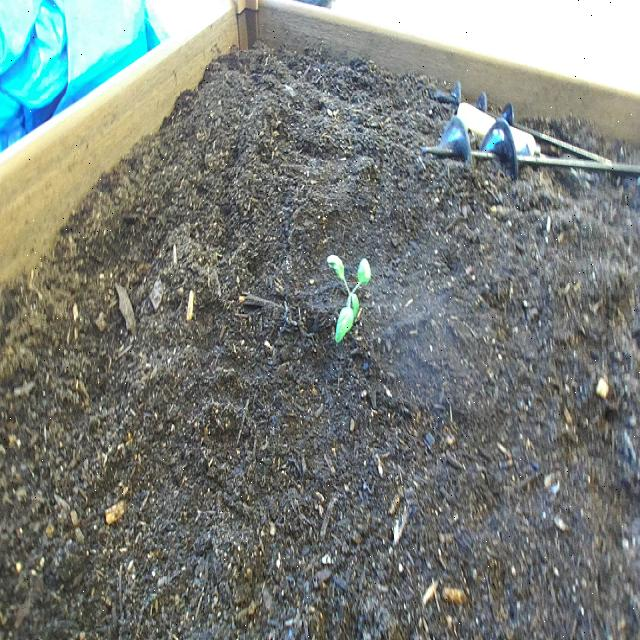Healthy: (326, 251, 373, 352)
